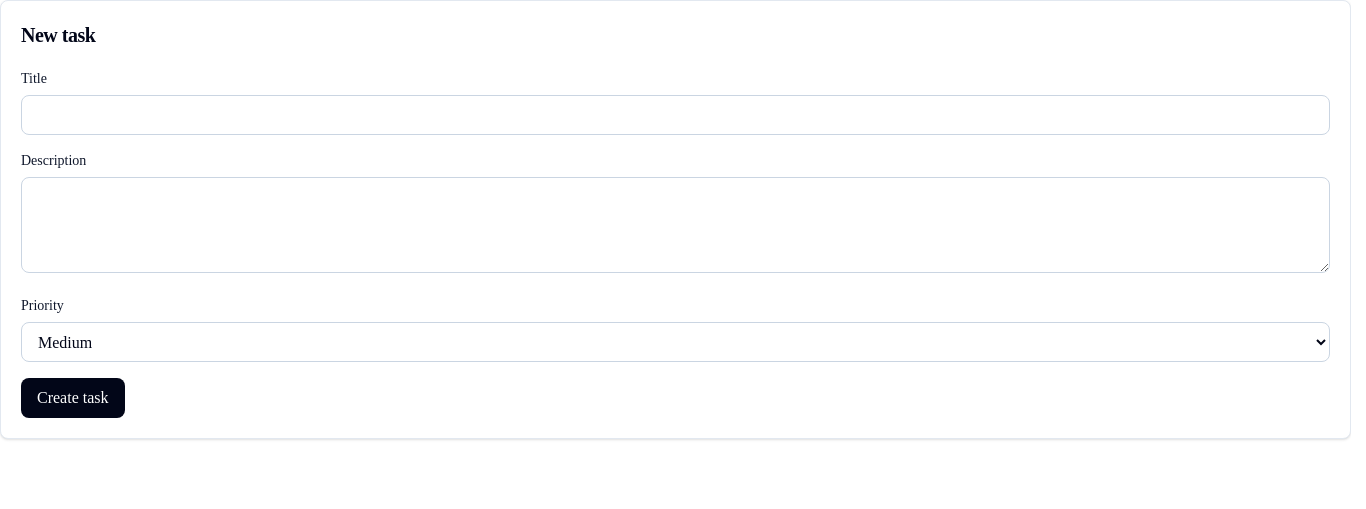
Test: CreateTaskForm › shows root error when task creation fails
The width and height of the screenshot is (1366, 509).
In the field labelled "Title": (676, 115) top-left (21, 95), bottom-right (1330, 135), type "New task"
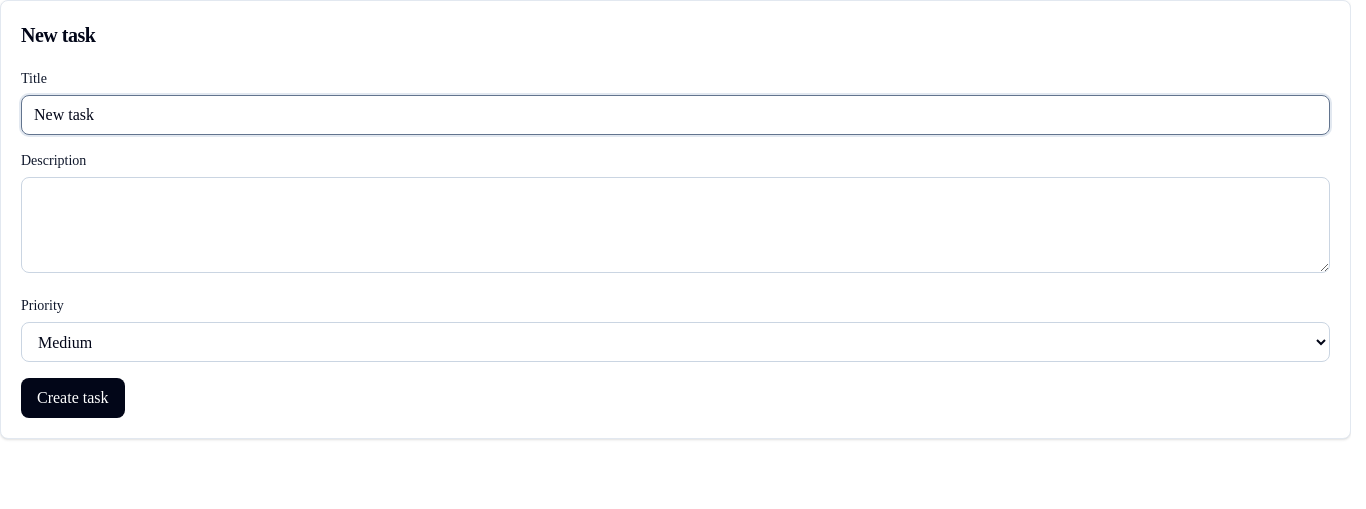
In the text box labelled "Description": (676, 225) top-left (21, 177), bottom-right (1330, 273), type "Task details"
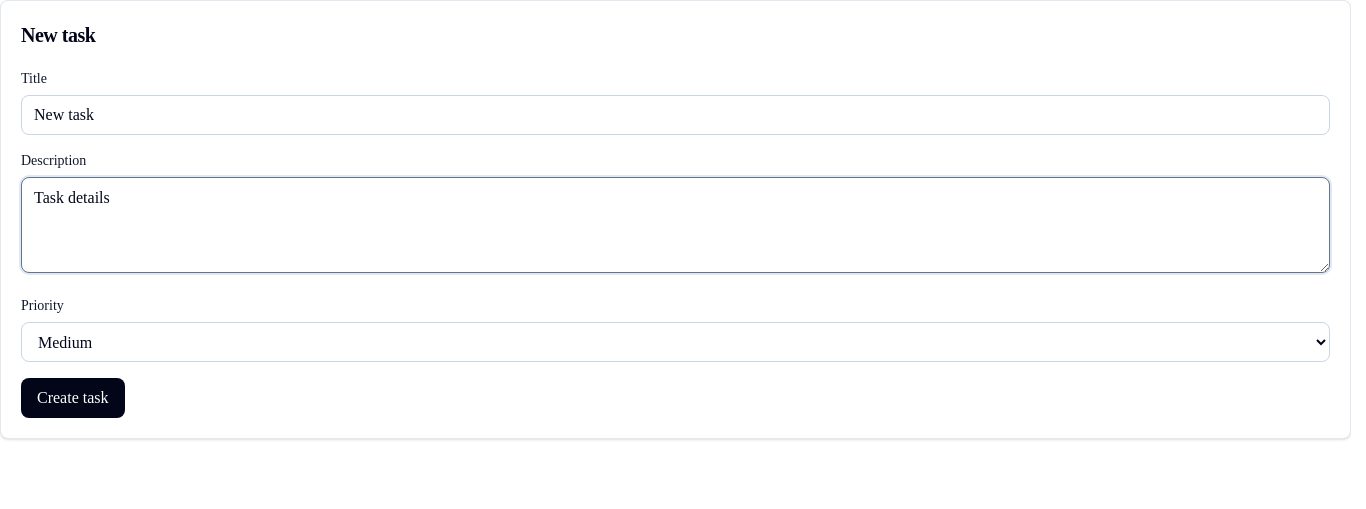
Select "High" in the dropdown labelled "Priority": (676, 342) top-left (21, 322), bottom-right (1330, 362)
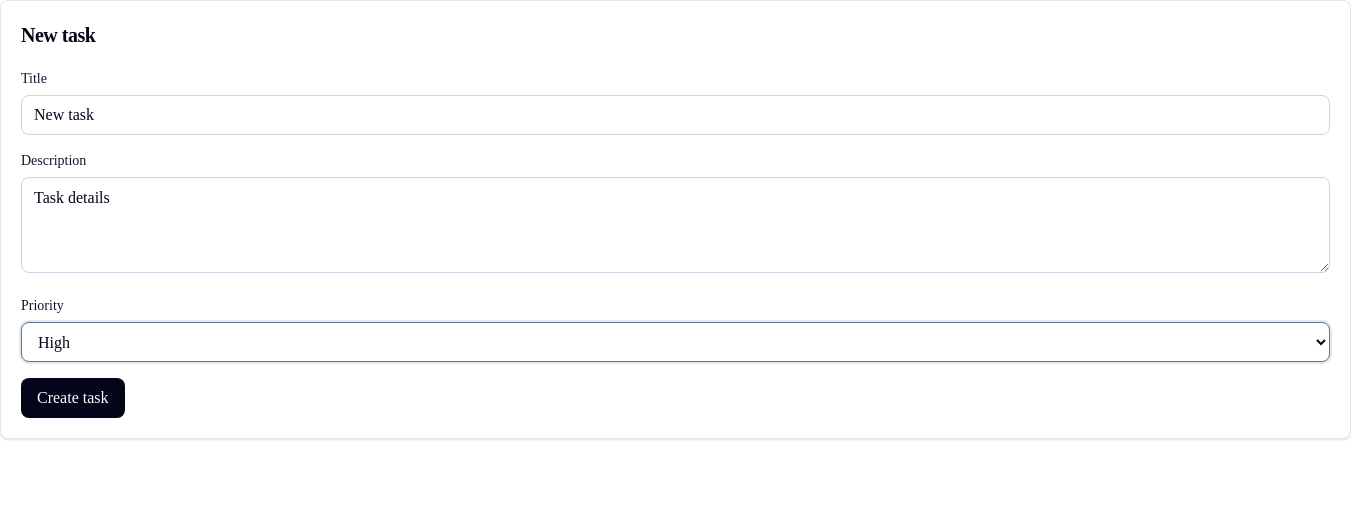
Click the button "Create task": (73, 398) top-left (21, 378), bottom-right (124, 418)
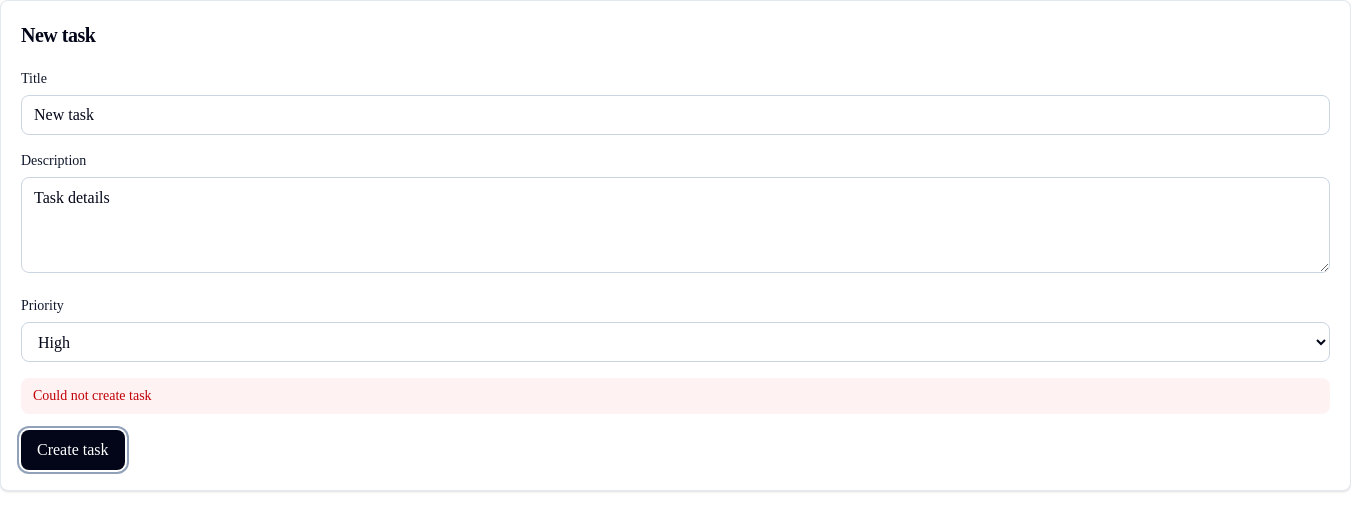
Expected: the text "Could not create task" is shown, top-left (21, 378), bottom-right (1330, 414)
